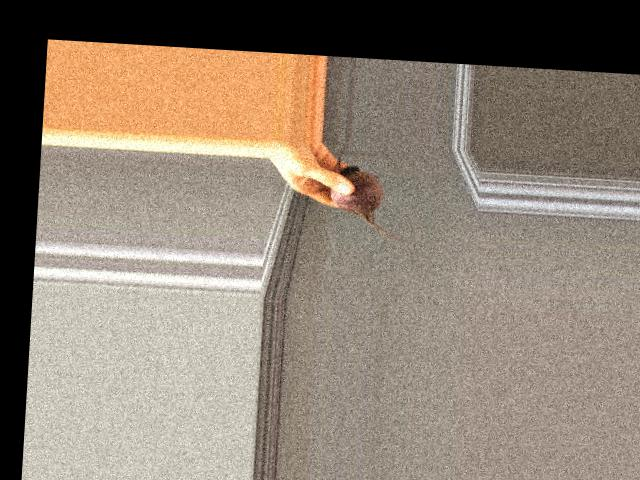beet: (328, 142, 413, 241)
